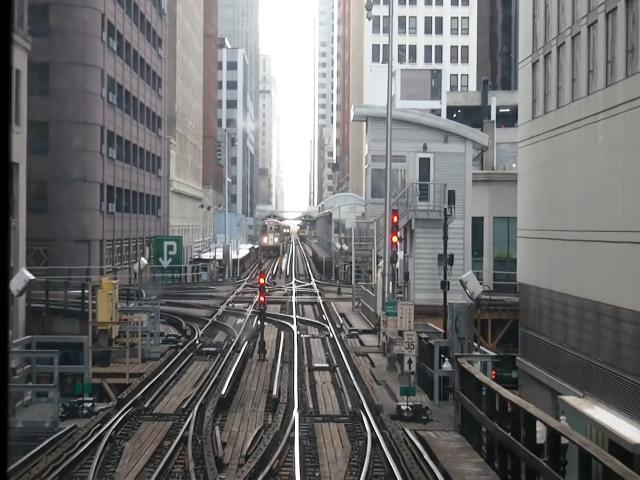signal light: (392, 210, 401, 265), (259, 271, 268, 315)
